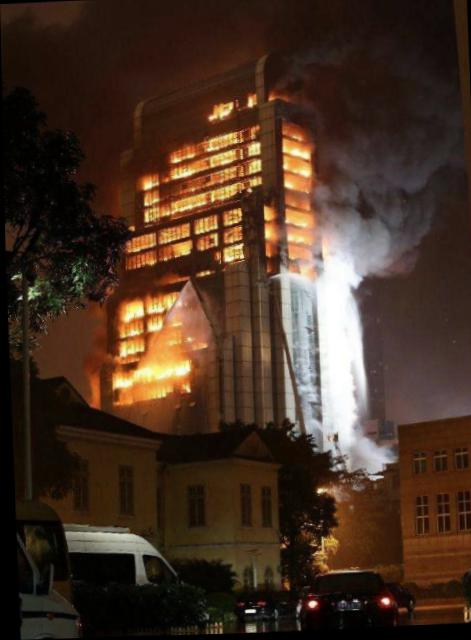fire: (93, 77, 331, 410)
